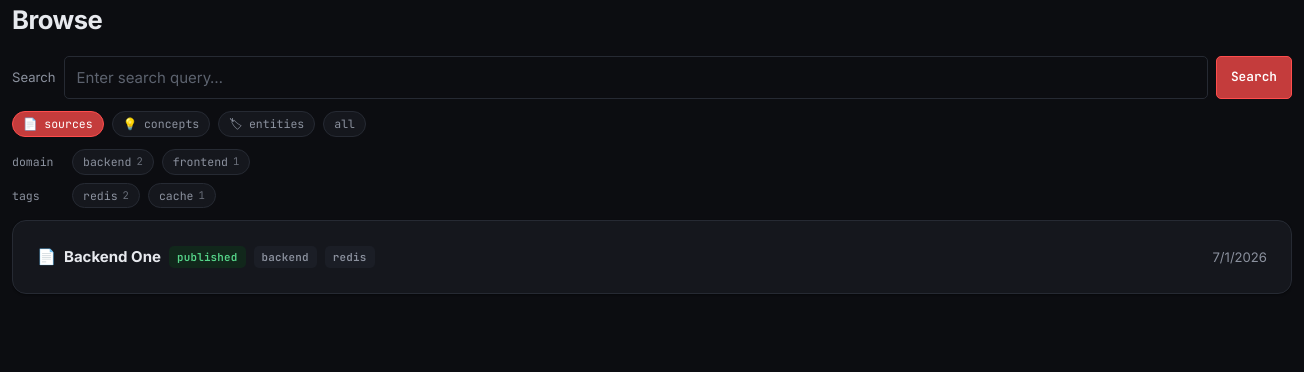
Test case: ItemsPage (faceted browse) › clicking a domain chip writes it to the URL
Click the button "backend 2" at [113, 162], box [72, 149, 154, 175]
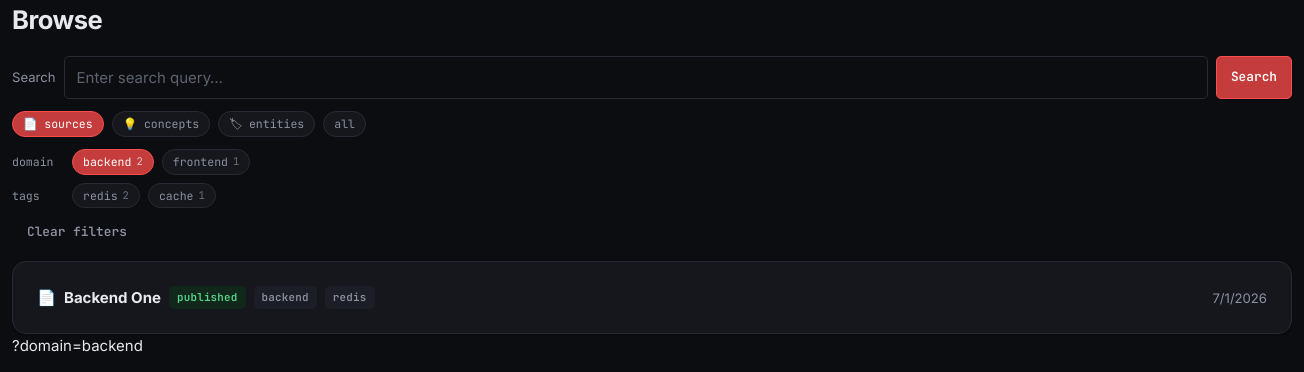
Expected: the text with test id "loc" shows "domain=backend", [12, 336, 143, 356]
